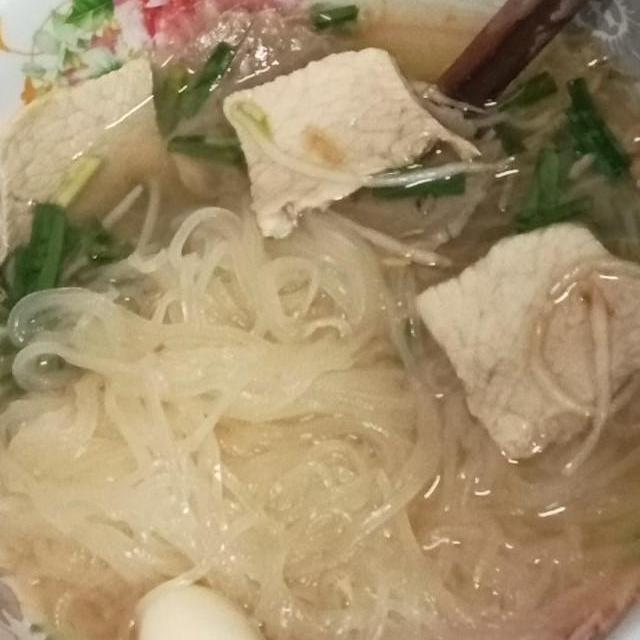banh hu tieu: (0, 208, 445, 602), (245, 431, 640, 640)
hu tieu: (0, 0, 640, 640)
thit heo: (409, 212, 640, 465), (210, 38, 476, 245), (0, 44, 178, 298)
trung: (127, 574, 280, 640)
